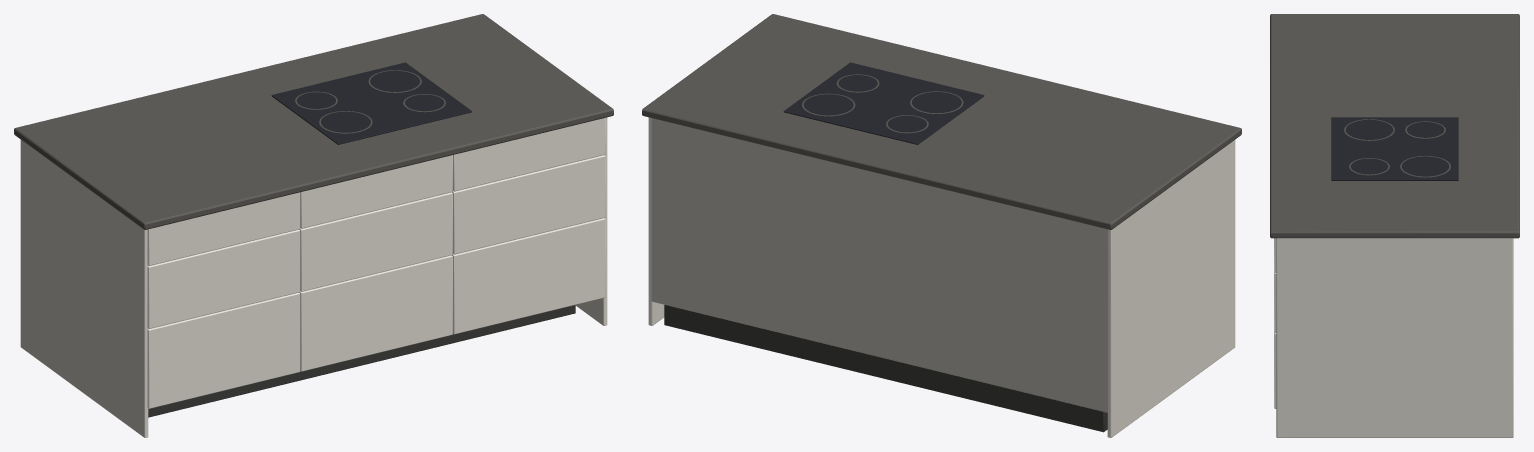
File: island.fbx
3 renders of one model, left to right at view 1: azimuth 30°, elevation 25°; view 2: azimuth 150°, elevation 25°; view 3: azimuth 270°, elevation 25°, orthographic. The views are drawn at different scales.
Parts seen in each view (by area): view 1: island; view 2: island; view 3: island.
Boxes of the visible parts, x1,y1,x2,y2 form: island: (14, 14, 613, 437); island: (642, 14, 1241, 437); island: (1270, 14, 1519, 437).
Bounding box in the file's own units: 2.03 × 0.98 × 0.9064.
